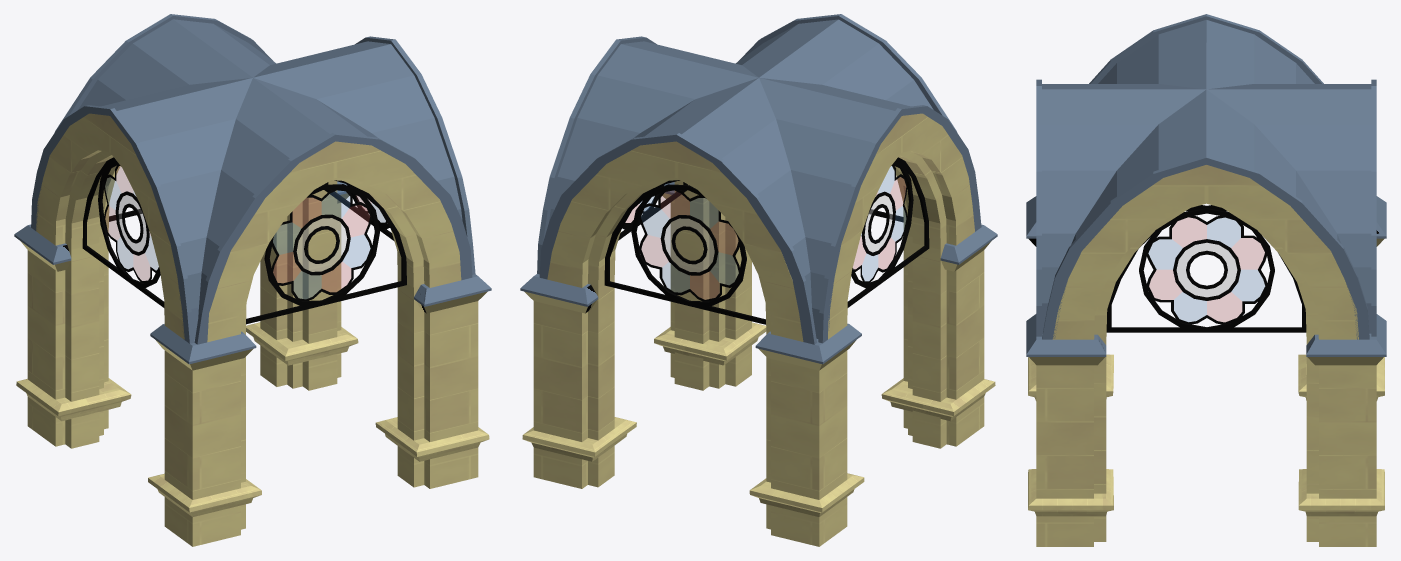
File: Струя.glb
The picture shows the model from 3 angles, left to right: view 1: azimuth 30°, elevation 25°; view 2: azimuth 150°, elevation 25°; view 3: azimuth 270°, elevation 25°; orthographic projection. The views are drawn at different scales.
Parts seen in each view (by area): view 1: Plane.003, Plane.005, Plane.006, Circle.003, Plane.004, Plane.007, Circle.005, Circle.001, Plane.002, Circle.006; view 2: Plane.003, Plane.005, Plane.006, Circle.002, Plane.004, Plane.007, Circle.005, Circle.004, Plane.002, Circle.006; view 3: Plane.003, Plane.006, Plane.005, Circle.007, Plane.004, Plane.007, Circle.008, Plane.002.
Part boxes in pixels (<box>): Plane.003: <box>27,113,478,546</box>; Plane.005: <box>31,36,475,343</box>; Plane.006: <box>54,14,472,344</box>; Circle.003: <box>264,184,379,306</box>; Plane.004: <box>16,322,489,516</box>; Plane.007: <box>14,181,491,364</box>; Circle.005: <box>98,160,160,288</box>; Circle.001: <box>246,180,406,324</box>; Plane.002: <box>20,193,487,370</box>; Circle.006: <box>82,157,164,307</box>; Plane.003: <box>533,113,984,546</box>; Plane.005: <box>537,36,981,343</box>; Plane.006: <box>539,14,957,344</box>; Circle.002: <box>631,184,746,306</box>; Plane.004: <box>522,322,995,516</box>; Plane.007: <box>520,182,997,364</box>; Circle.005: <box>851,161,913,288</box>; Circle.004: <box>604,180,765,324</box>; Plane.002: <box>524,193,991,370</box>; Circle.006: <box>847,157,929,307</box>; Plane.003: <box>1036,165,1376,546</box>; Plane.006: <box>1036,79,1376,336</box>; Plane.005: <box>1042,14,1369,339</box>; Circle.007: <box>1139,208,1274,332</box>; Plane.004: <box>1028,354,1384,516</box>; Plane.007: <box>1026,196,1386,356</box>; Circle.008: <box>1106,227,1306,332</box>; Plane.002: <box>1028,238,1384,365</box>.
Bounding box in the file's own units: 4.56 × 5.43 × 4.56.
Materials: 6 (3 with a texture image).
